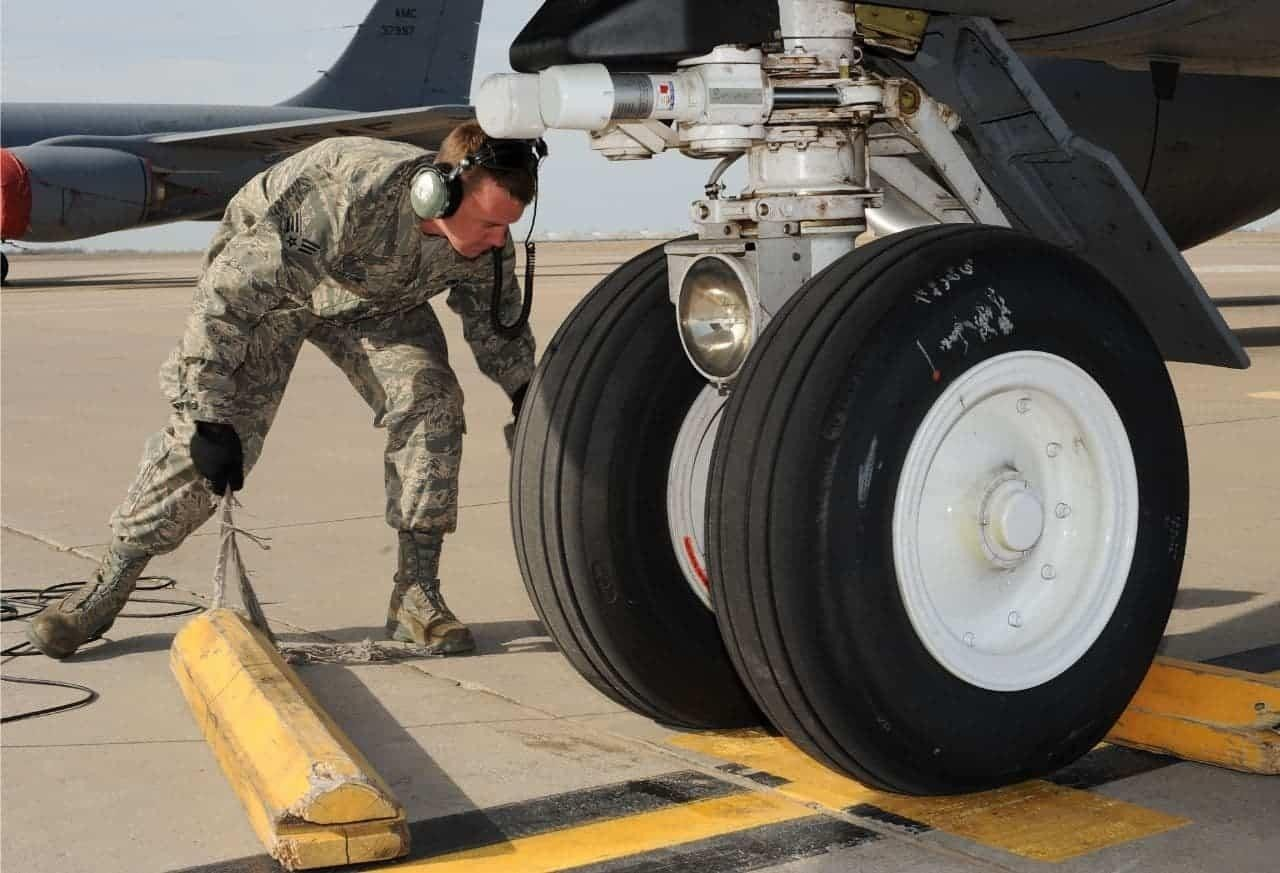chock: (168, 601, 413, 873)
wheel: (703, 223, 1181, 788), (512, 233, 785, 730)
